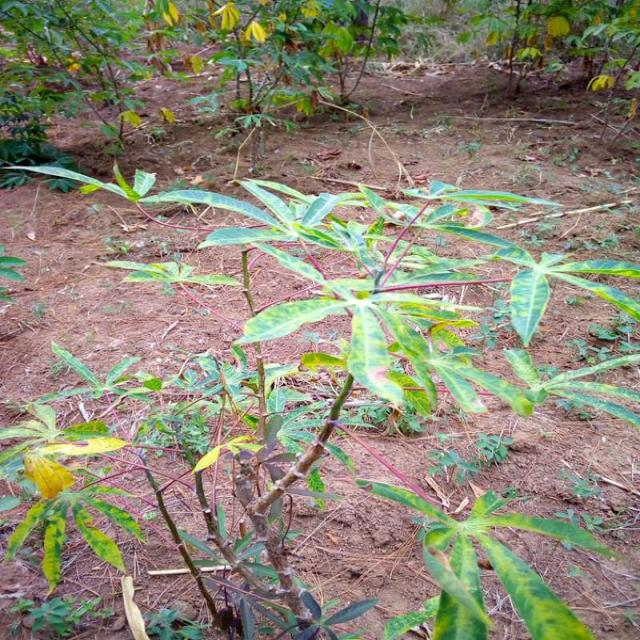cassava leaf: (346, 301, 404, 406), (508, 266, 550, 346)
